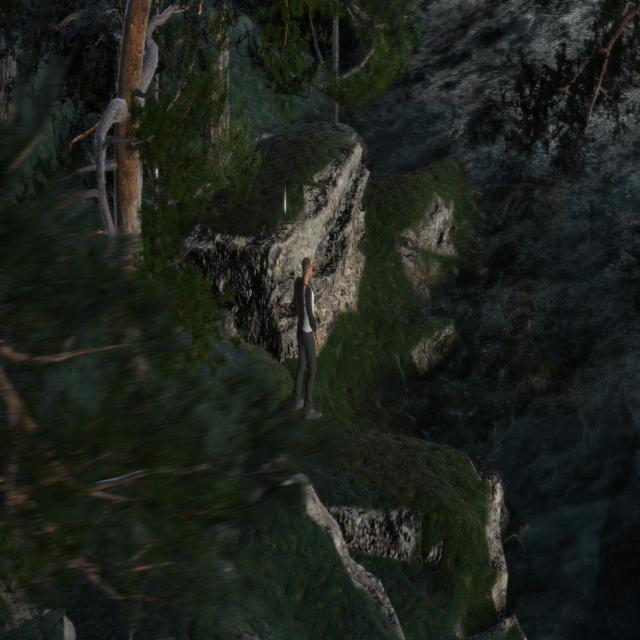Human: (288, 248, 330, 422)
